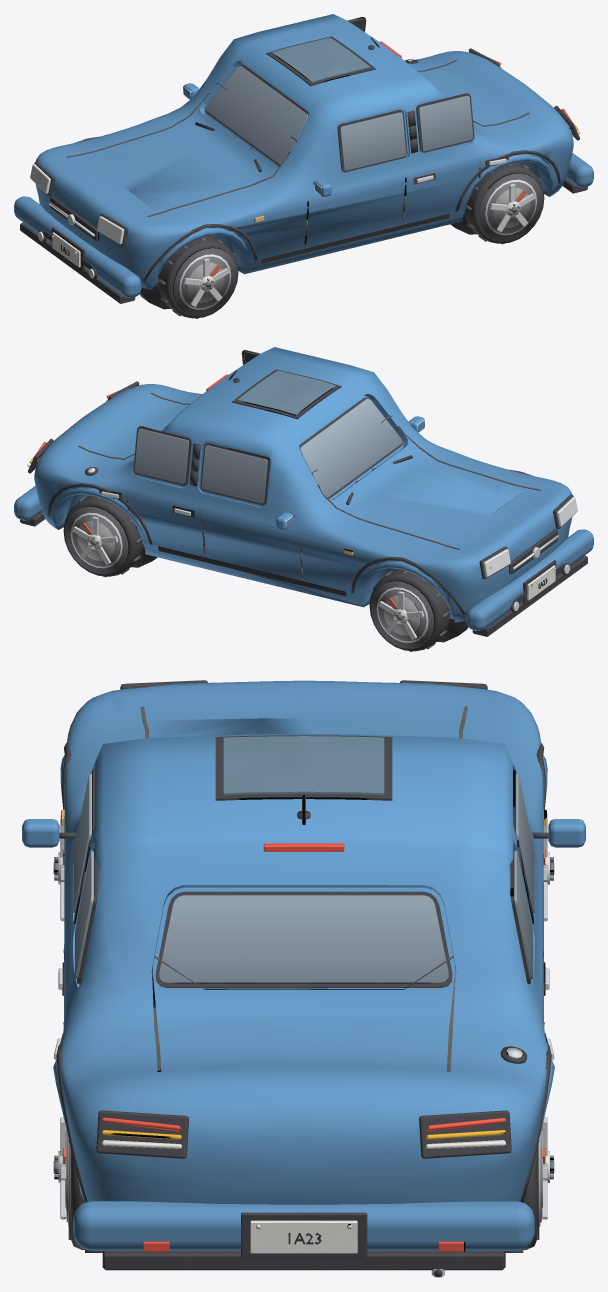
File: Rig_CarBlue.fbx
The picture shows the model from 3 angles, top to bottom: view 1: azimuth 30°, elevation 25°; view 2: azimuth 150°, elevation 25°; view 3: azimuth 270°, elevation 25°; orthographic projection. The views are drawn at different scales.
Parts seen in each view (by area): view 1: Transito_CarBlue__Body, Transito_CarBlue__Wheel_F_L, Transito_CarBlue__Wheel_R_L; view 2: Transito_CarBlue__Body, Transito_CarBlue__Wheel_F_R, Transito_CarBlue__Wheel_R_R; view 3: Transito_CarBlue__Body, Transito_CarBlue__Wheel_R_R, Transito_CarBlue__Wheel_R_L.
Boxes of the visible parts, left/top/right/bottom form: Transito_CarBlue__Body: left=14, top=14, right=593, bottom=309; Transito_CarBlue__Wheel_F_L: left=157, top=236, right=238, bottom=318; Transito_CarBlue__Wheel_R_L: left=464, top=162, right=544, bottom=244; Transito_CarBlue__Body: left=14, top=347, right=593, bottom=642; Transito_CarBlue__Wheel_F_R: left=369, top=569, right=450, bottom=651; Transito_CarBlue__Wheel_R_R: left=63, top=495, right=143, bottom=577; Transito_CarBlue__Body: left=22, top=680, right=585, bottom=1277; Transito_CarBlue__Wheel_R_R: left=505, top=1117, right=554, bottom=1252; Transito_CarBlue__Wheel_R_L: left=53, top=1117, right=102, bottom=1252.
Bounding box in the file's own units: 4.13 × 1.58 × 2.1.
